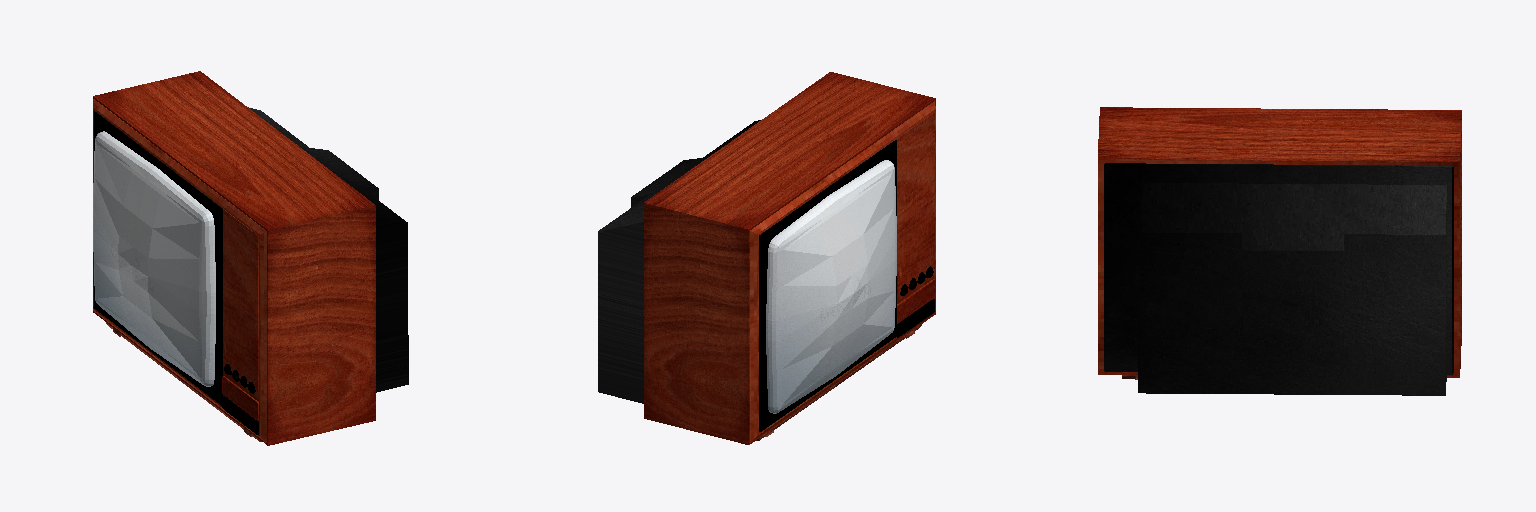
The picture shows the model from 3 angles: view 1: azimuth 30°, elevation 25°; view 2: azimuth 150°, elevation 25°; view 3: azimuth 270°, elevation 25°; orthographic projection.
Visible parts, largest first — view 1: TV:television_rubin; view 2: TV:television_rubin; view 3: TV:television_rubin.
Boxes of the visible parts, box(x1,y1,x2,y2) form: TV:television_rubin: box(93, 71, 408, 445); TV:television_rubin: box(598, 72, 935, 444); TV:television_rubin: box(1098, 107, 1461, 395).
Size of the model in its own units: 6.04 by 6.06 by 9.05.
Materials: 6 (4 with a texture image).